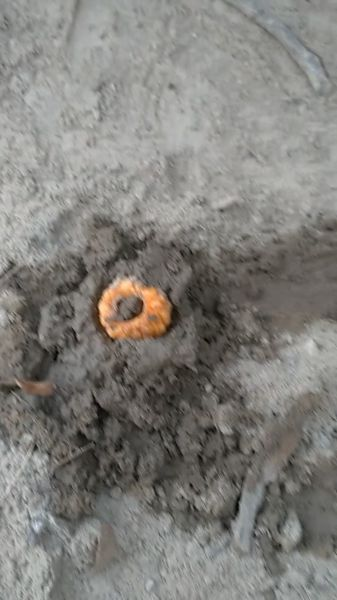eggs: (94, 275, 181, 343)
